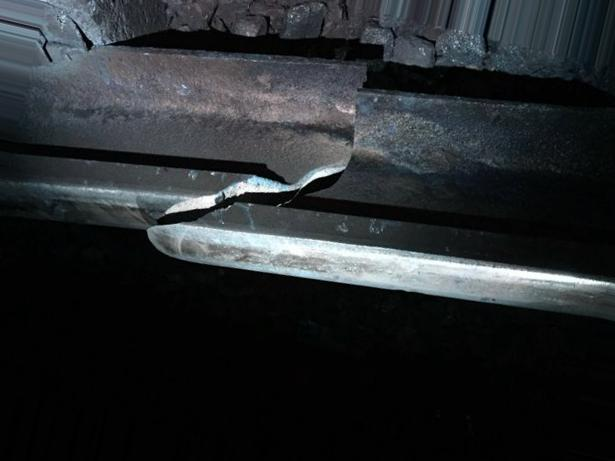tracks_fault: (126, 67, 414, 288)
